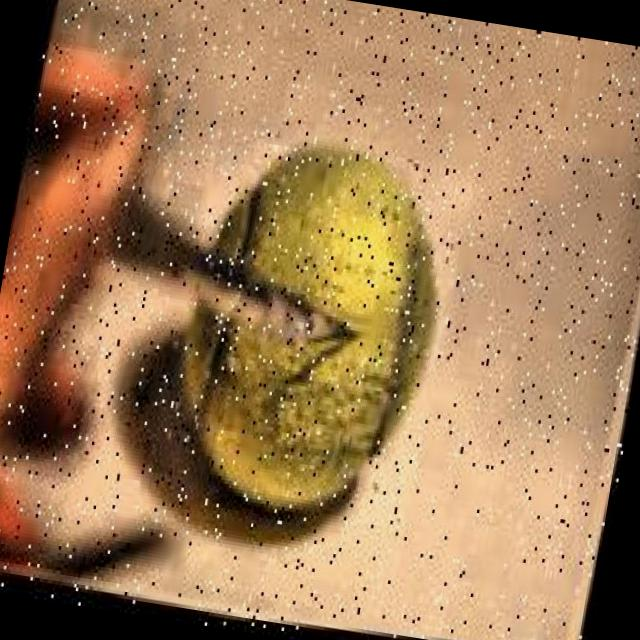Tennis Ball: (140, 110, 480, 551)
